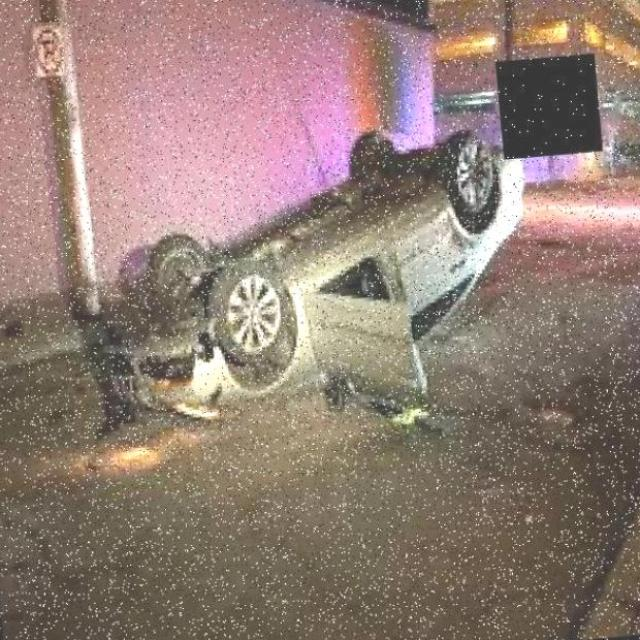accident: (76, 96, 549, 447)
